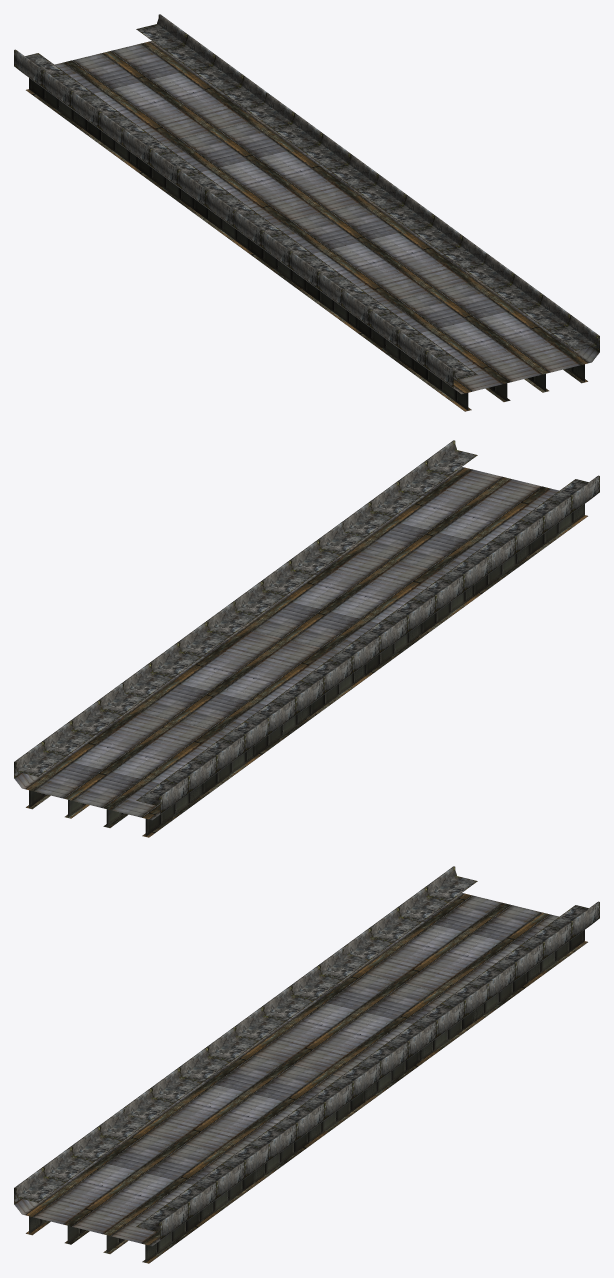
Rendered from Bridge_01.obj.
3 views of the same model, one above another, from view 1: azimuth 30°, elevation 25°; view 2: azimuth 150°, elevation 25°; view 3: azimuth 330°, elevation 25° (orthographic).
Visible parts, largest first — view 1: Bridge_28m002, Bridge_28m, Bridge_28m003, Bridge_28m001; view 2: Bridge_28m001, Bridge_28m002, Bridge_28m, Bridge_28m003; view 3: Bridge_28m002, Bridge_28m, Bridge_28m003, Bridge_28m001.
Boxes of the visible parts, x1=… form: Bridge_28m002: x1=341, y1=253, x2=599, y2=411; Bridge_28m: x1=121, y1=93, x2=378, y2=249; Bridge_28m003: x1=233, y1=174, x2=486, y2=328; Bridge_28m001: x1=14, y1=14, x2=267, y2=168; Bridge_28m001: x1=14, y1=683, x2=270, y2=837; Bridge_28m002: x1=341, y1=440, x2=599, y2=598; Bridge_28m: x1=121, y1=602, x2=379, y2=758; Bridge_28m003: x1=233, y1=523, x2=491, y2=677; Bridge_28m002: x1=14, y1=1105, x2=272, y2=1263; Bridge_28m: x1=235, y1=945, x2=492, y2=1101; Bridge_28m003: x1=123, y1=1026, x2=380, y2=1183; Bridge_28m001: x1=342, y1=866, x2=599, y2=1022.
Bounding box in the file's own units: 827 × 231 × 4300.
Materials: 2 (2 with a texture image).
